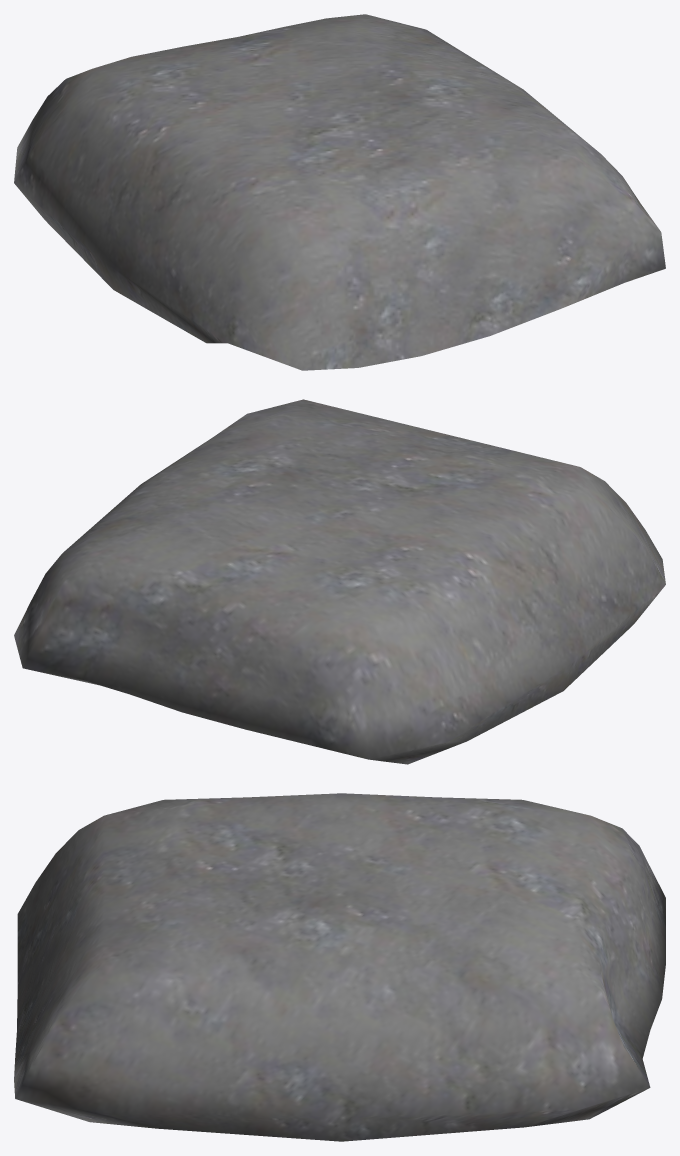
File: SM_Sun_Kak_stone_C.fbx
3 renders of one model, top to bottom at view 1: azimuth 30°, elevation 25°; view 2: azimuth 150°, elevation 25°; view 3: azimuth 270°, elevation 25°, orthographic. The views are drawn at different scales.
Visible parts, largest first — view 1: SM_Sun_Kak_stone_C; view 2: SM_Sun_Kak_stone_C; view 3: SM_Sun_Kak_stone_C.
Boxes of the visible parts, x1,y1,x2,y2 form: SM_Sun_Kak_stone_C: [14, 14, 665, 370]; SM_Sun_Kak_stone_C: [14, 399, 665, 764]; SM_Sun_Kak_stone_C: [14, 793, 665, 1141].
Size of the model in its own units: 84.87 by 24.9 by 94.51.
